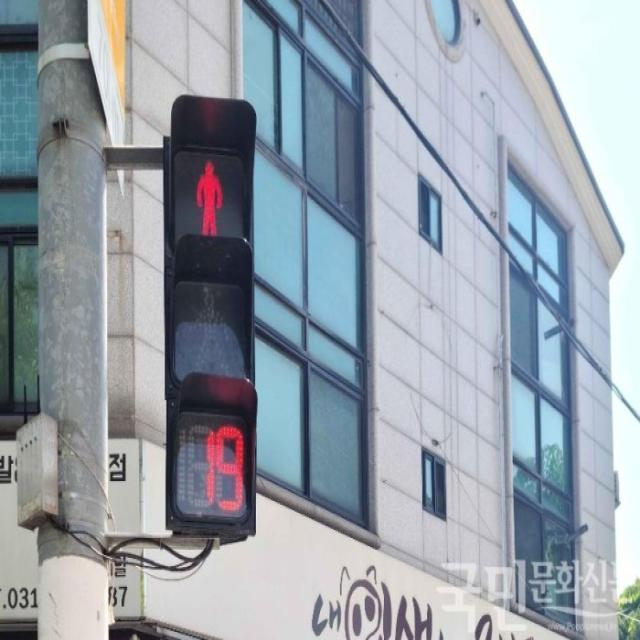red_light: (174, 159, 256, 518)
